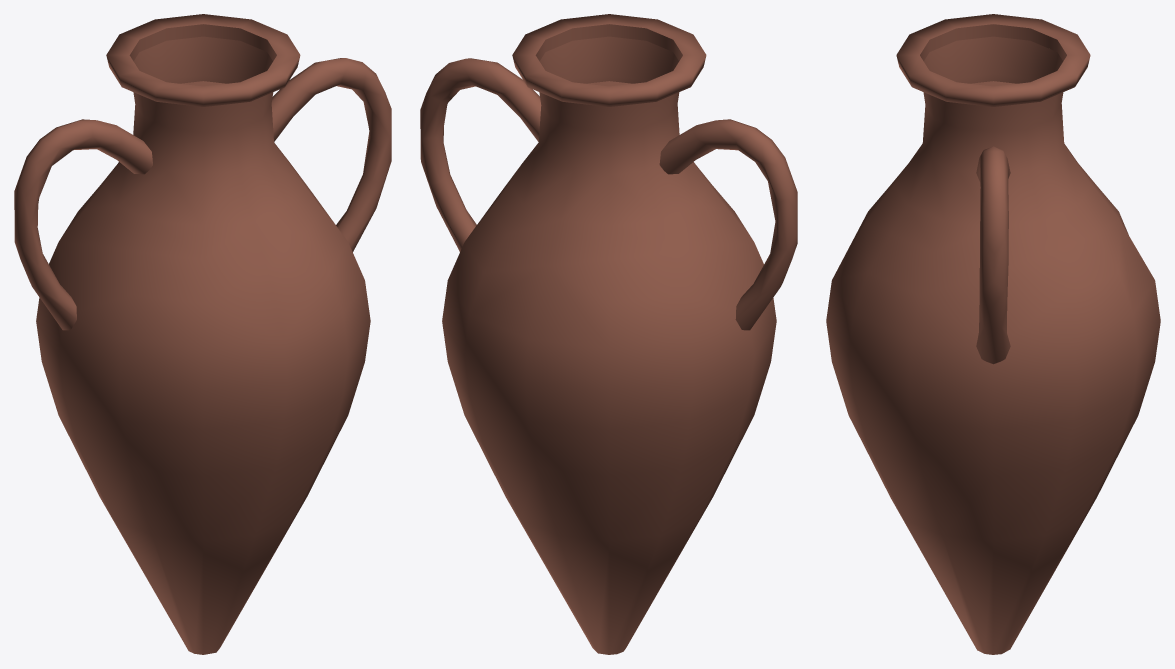
File: ChonkItemAmphore.fbx
The picture shows the model from 3 angles, left to right: view 1: azimuth 30°, elevation 25°; view 2: azimuth 150°, elevation 25°; view 3: azimuth 270°, elevation 25°; orthographic projection.
Visible parts, largest first — view 1: Amphore; view 2: Amphore; view 3: Amphore.
Part boxes in pixels (x1,y1,x2,y2): Amphore: (14, 14, 391, 654); Amphore: (420, 14, 797, 654); Amphore: (826, 14, 1160, 654).
Size of the model in its own units: 161 by 243 by 124.
